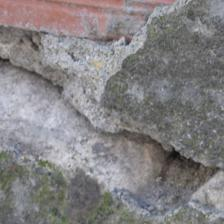Crack: (4, 61, 219, 218), (6, 3, 183, 49)
